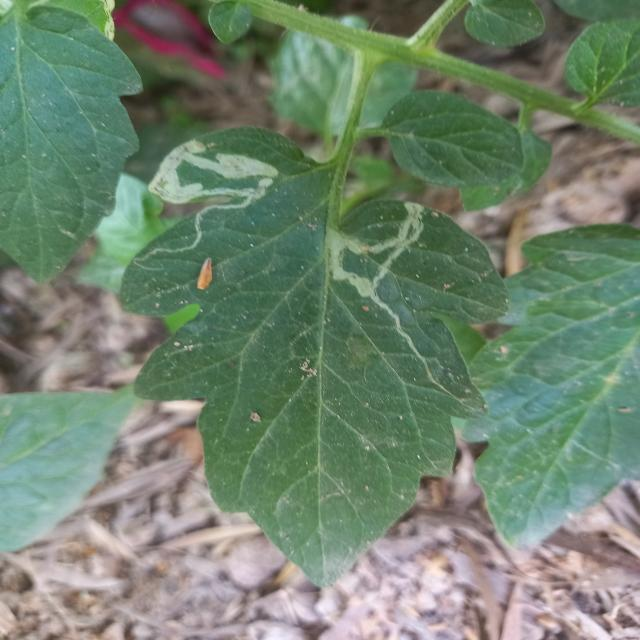Tuta absoluta: (324, 201, 446, 402), (147, 133, 282, 222), (148, 206, 222, 274)
